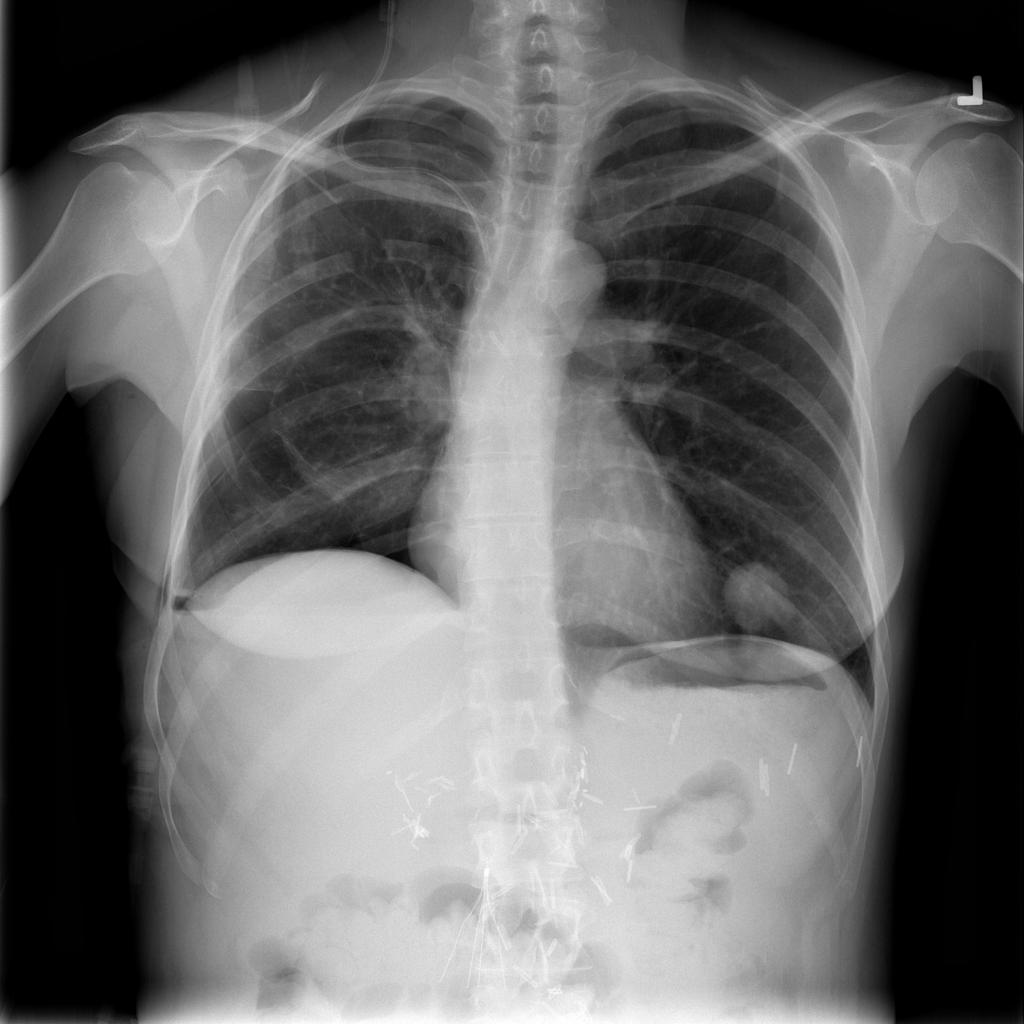nodule: (703, 545, 814, 649)
